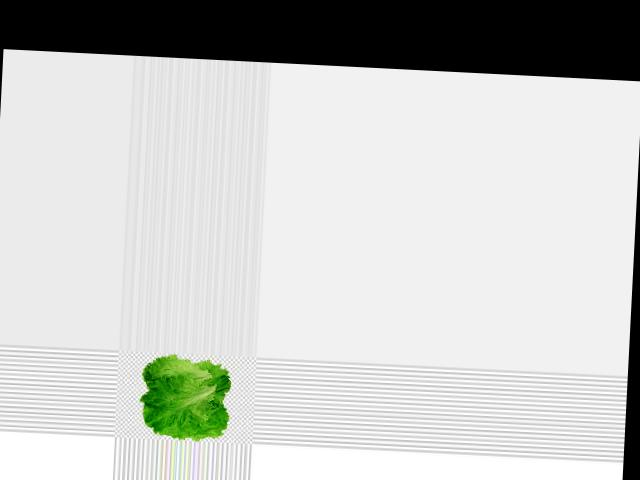lettuce: (132, 350, 238, 444)
